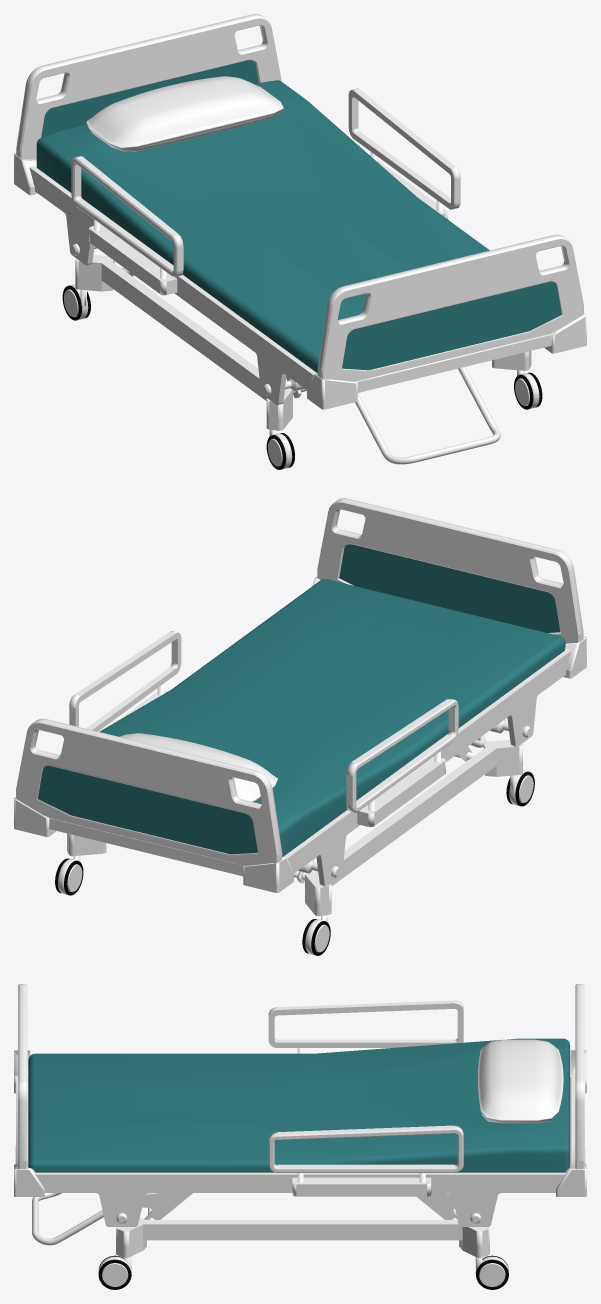
Rendered from hospital_bed.dae.
The picture shows the model from 3 angles, top to bottom: view 1: azimuth 30°, elevation 25°; view 2: azimuth 150°, elevation 25°; view 3: azimuth 270°, elevation 25°; orthographic projection. The views are drawn at different scales.
Parts seen in each view (by area): view 1: ChamferBox, Rectangle8, Rectangle5, Box01, Rectangle9, Rectangle7, Rectangle6, Torus08, Torus06, Torus09, Rectangle2, Rectangl10; view 2: ChamferBox, Rectangle8, Rectangle5, Rectangle9, Rectangle2, Box01, Torus09, Torus07, Torus08, Rectangle7, Rectangl10; view 3: ChamferBox, Rectangle5, Rectangl10, Box01, Rectangle8, Rectangle2, Rectangle7, Torus06, Torus07, Rectangle6, Rectangle0, Rectangle1.
Part boxes in pixels (x1,y1,x2,y2): ChamferBox: (36, 80, 489, 372); Rectangle8: (16, 14, 583, 381); Rectangle5: (29, 88, 460, 404); Box01: (86, 76, 283, 151); Rectangle9: (75, 255, 292, 430); Rectangle7: (307, 313, 586, 409); Rectangle6: (355, 367, 500, 464); Torus08: (266, 429, 294, 469); Torus06: (514, 370, 542, 409); Torus09: (62, 284, 90, 320); Rectangle2: (14, 153, 37, 195); Rectangl10: (492, 351, 531, 370); ChamferBox: (60, 579, 565, 856); Rectangle8: (16, 498, 583, 865); Rectangle5: (69, 631, 571, 886); Rectangle9: (305, 740, 522, 916); Rectangle2: (14, 797, 293, 892); Box01: (119, 733, 277, 802); Torus09: (302, 915, 330, 955); Torus07: (55, 855, 83, 895); Torus08: (506, 770, 534, 806); Rectangle7: (312, 577, 586, 678); Rectangl10: (67, 833, 106, 856); ChamferBox: (28, 1038, 569, 1172); Rectangle5: (35, 1000, 565, 1226); Rectangl10: (116, 1217, 489, 1257); Box01: (477, 1039, 563, 1123); Rectangle8: (18, 984, 584, 1169); Rectangle2: (556, 1050, 586, 1196); Rectangle7: (14, 1050, 44, 1196); Torus06: (98, 1255, 131, 1289); Torus07: (475, 1255, 508, 1289); Rectangle6: (32, 1193, 103, 1245); Rectangle0: (142, 1193, 192, 1219); Rectangle1: (417, 1193, 457, 1219).
Bounding box in the file's own units: 1.01 × 1.89 × 0.7181.
